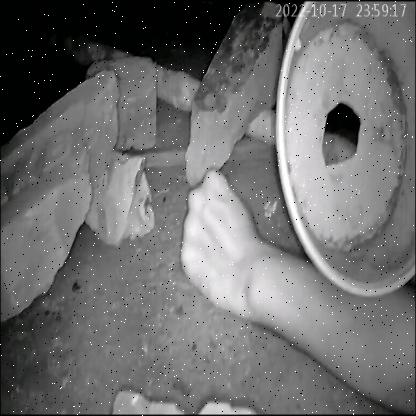hand: (156, 165, 334, 351)
